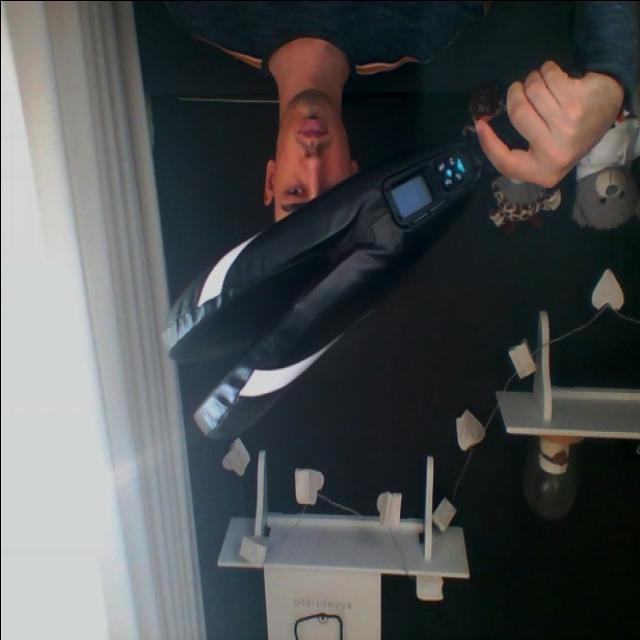paddle: (162, 134, 499, 446)
